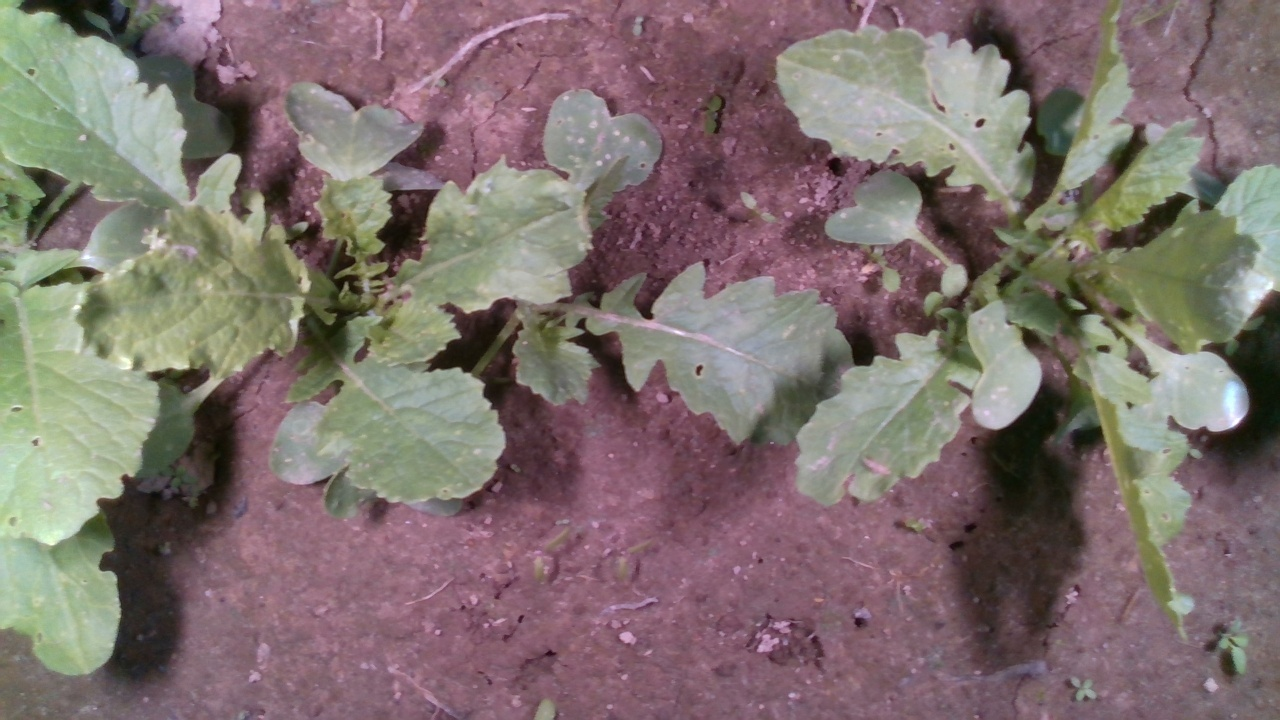weed: (531, 526, 571, 592), (616, 536, 656, 590), (703, 90, 725, 137), (1068, 675, 1098, 703), (628, 13, 645, 38)
